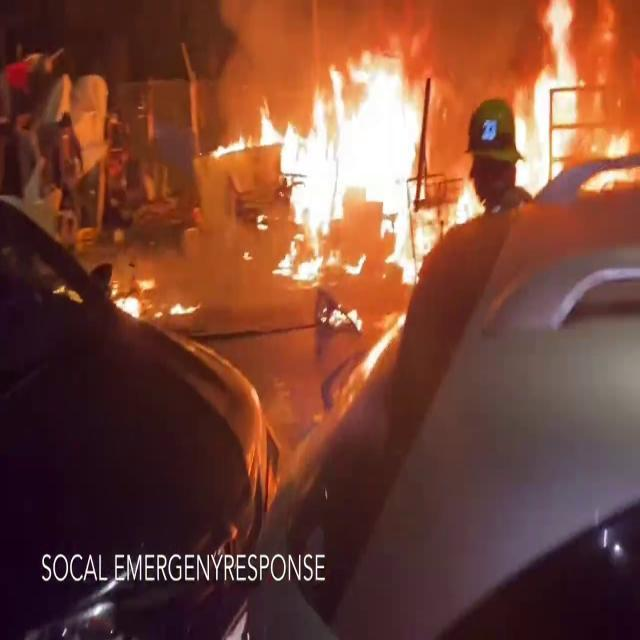Fire: (223, 39, 472, 280), (506, 1, 640, 198), (107, 265, 193, 325)
